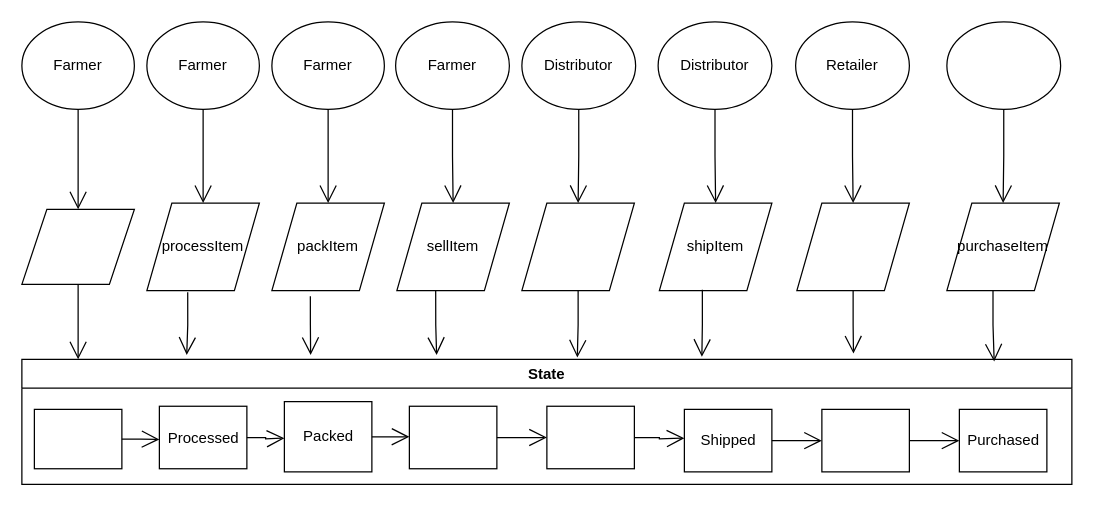
The diagram is 1094 pixels wide and 506 high, and some of its shapes have lost their labels. The shapes that lost their labels are listed below. From the top down, each one's box as (x1, y1, x2, y2) in pixels, then its label:
(946, 21, 1061, 109): Consumer
(21, 208, 134, 284): harvestItem
(521, 202, 634, 291): buyItem
(796, 202, 909, 291): receiveItem
(33, 408, 122, 469): Harvested
(408, 405, 497, 469): For Sale
(546, 405, 634, 469): Sold
(821, 408, 909, 472): Received
